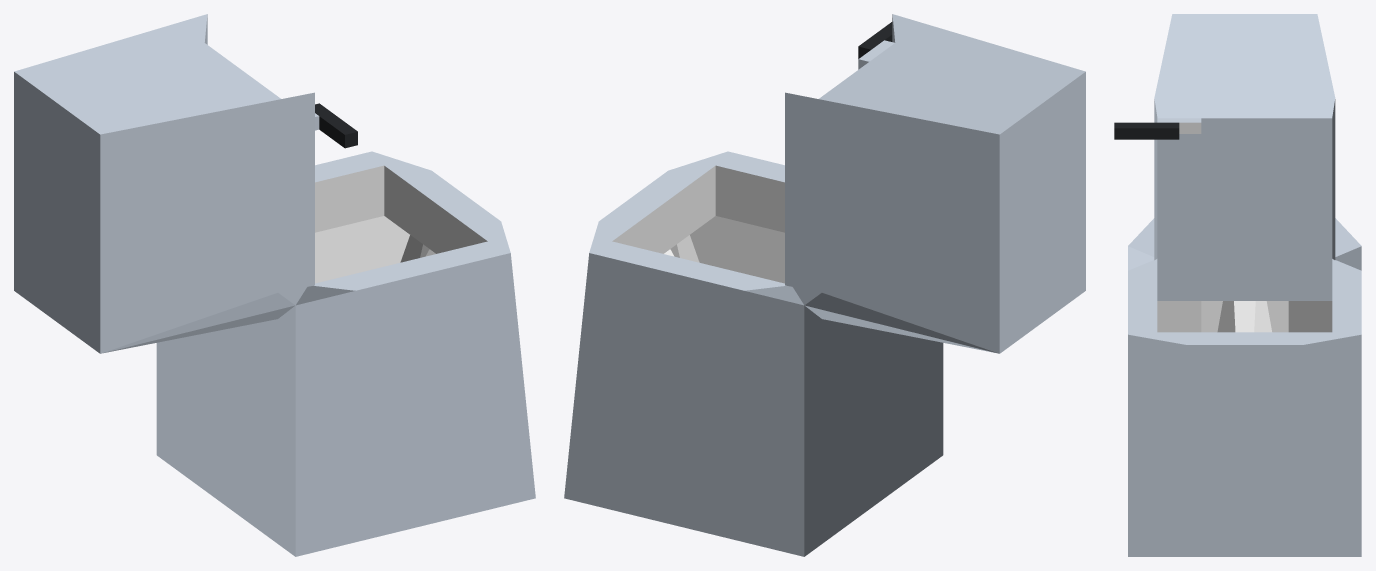
File: toilet.glb
3 views of the same model, side by side, from view 1: azimuth 30°, elevation 25°; view 2: azimuth 150°, elevation 25°; view 3: azimuth 270°, elevation 25° (orthographic). The views are drawn at different scales.
Visible parts, largest first — view 1: Cube; view 2: Cube; view 3: Cube.
Part boxes in pixels (x1=…): Cube: x1=14, y1=14, x2=535, y2=556; Cube: x1=564, y1=14, x2=1085, y2=556; Cube: x1=1114, y1=14, x2=1361, y2=556.
Size of the model in its own units: 1.42 by 1.48 by 0.885.
1 material, 1 textured.
